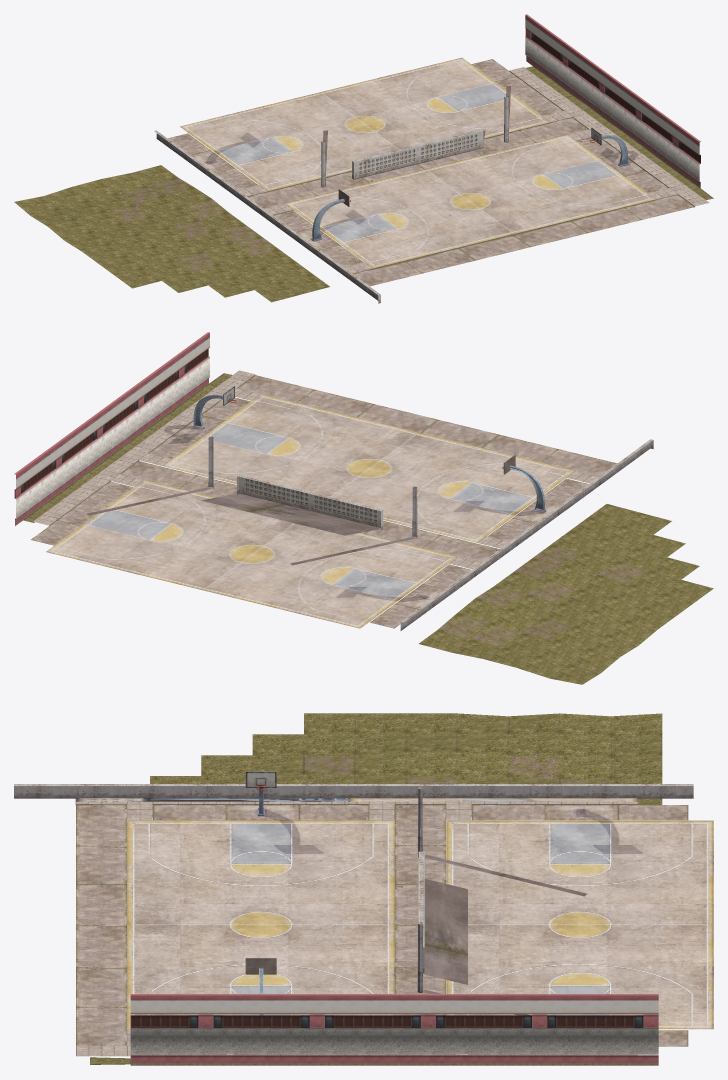
File: court_cuba_mesh.fbx
3 views of the same model, one above another, from view 1: azimuth 30°, elevation 25°; view 2: azimuth 150°, elevation 25°; view 3: azimuth 270°, elevation 25° (orthographic). The views are drawn at different scales.
Visible parts, largest first — view 1: court_cuba_mesh; view 2: court_cuba_mesh; view 3: court_cuba_mesh.
Boxes of the visible parts, x1=… form: court_cuba_mesh: x1=14, y1=14, x2=713, y2=303; court_cuba_mesh: x1=14, y1=332, x2=713, y2=684; court_cuba_mesh: x1=14, y1=713, x2=713, y2=1065.
Size of the model in its own units: 175 by 21.35 by 137.
